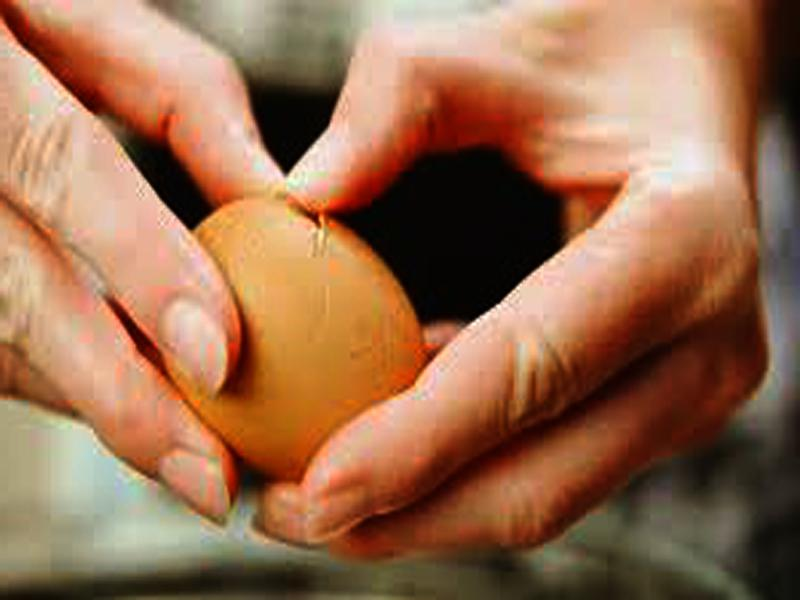Eggs: (160, 193, 424, 486)
